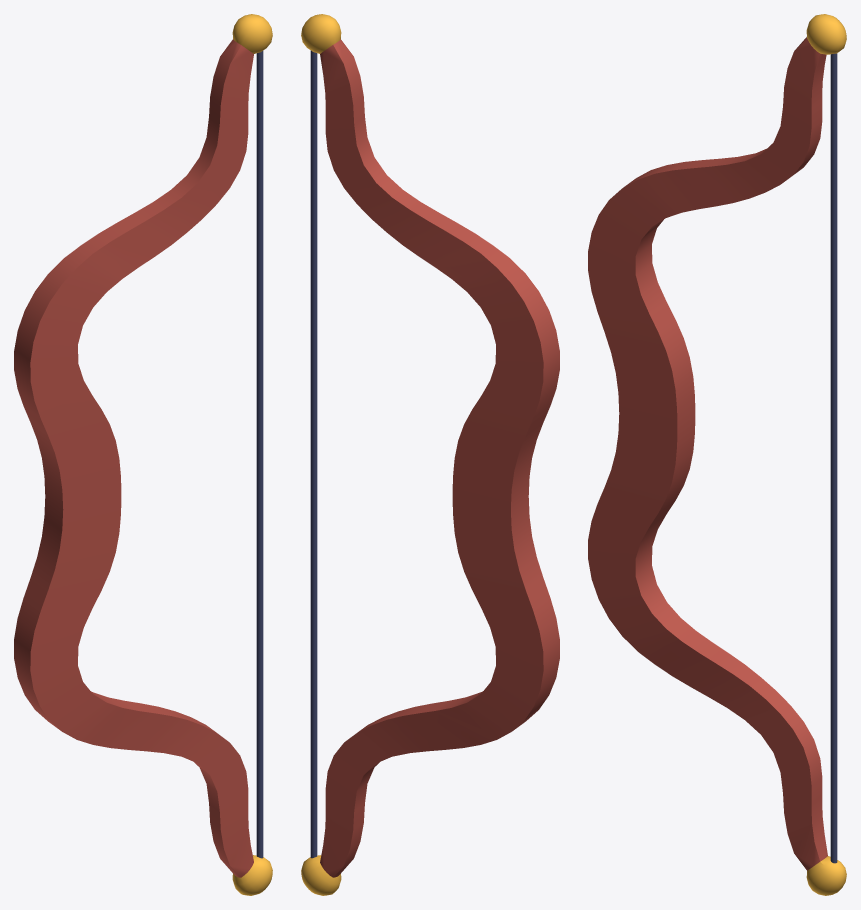
The model's file is Bow A Multi.fbx.
The picture shows the model from 3 angles, left to right: view 1: azimuth 30°, elevation 25°; view 2: azimuth 150°, elevation 25°; view 3: azimuth 330°, elevation 25°; orthographic projection.
Parts seen in each view (by area): view 1: Bow A; view 2: Bow A; view 3: Bow A.
Boxes of the visible parts, <box> form: Bow A: <box>14,14,272,895</box>; Bow A: <box>301,14,559,895</box>; Bow A: <box>588,14,846,895</box>.
Size of the model in its own units: 0.6038 by 2.04 by 0.0755.
